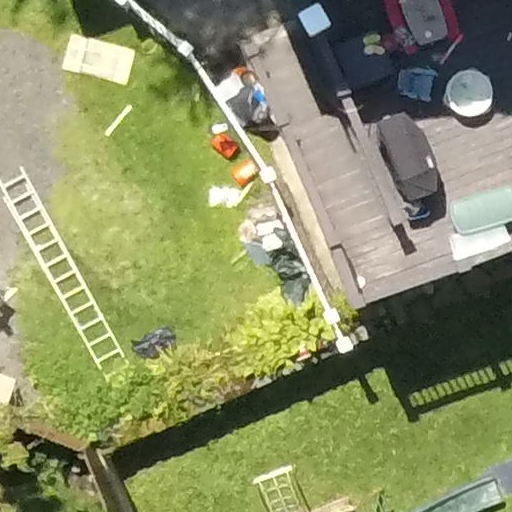bucket: (207, 129, 242, 162), (227, 160, 262, 184)
container: (437, 223, 512, 272), (440, 187, 512, 230)
